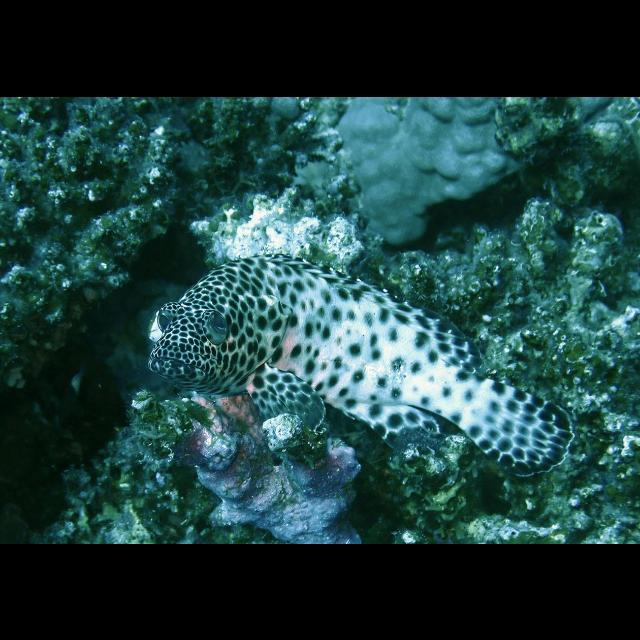Groupers: (142, 254, 576, 476)
